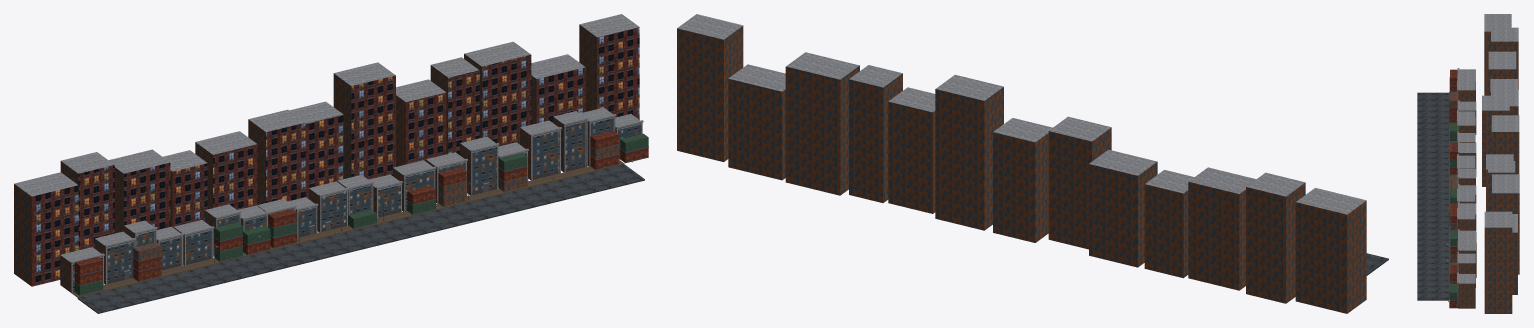
The model's file is stage1.glb.
3 views of the same model, side by side, from view 1: azimuth 30°, elevation 25°; view 2: azimuth 150°, elevation 25°; view 3: azimuth 270°, elevation 25° (orthographic). The views are drawn at different scales.
Parts seen in each view (by area): view 1: Scenery; view 2: Scenery; view 3: Scenery.
Part boxes in pixels (bbox=[...]): Scenery: bbox=[14, 14, 648, 313]; Scenery: bbox=[677, 14, 1388, 313]; Scenery: bbox=[1417, 14, 1519, 313].
Bounding box in the file's own units: 158 × 29.53 × 29.73.
Materials: 12 (11 with a texture image).
